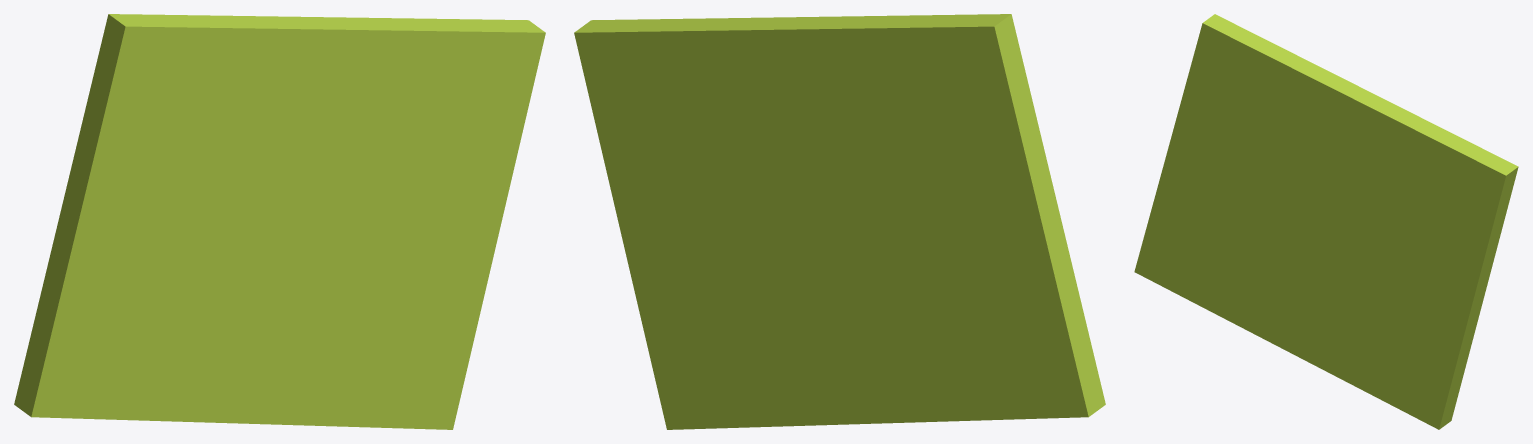
3 renders of one model, left to right at view 1: azimuth 30°, elevation 25°; view 2: azimuth 150°, elevation 25°; view 3: azimuth 330°, elevation 25°, orthographic. The views are drawn at different scales.
Visible parts, largest first — view 1: osm-way27917482-F3; view 2: osm-way27917482-F3; view 3: osm-way27917482-F3.
Part boxes in pixels (box(x1,y1,x2,y2)): osm-way27917482-F3: box(14, 14, 545, 429); osm-way27917482-F3: box(574, 14, 1105, 429); osm-way27917482-F3: box(1134, 14, 1518, 429).
Bounding box in the file's own units: 2.59 × 2.32 × 0.15.
